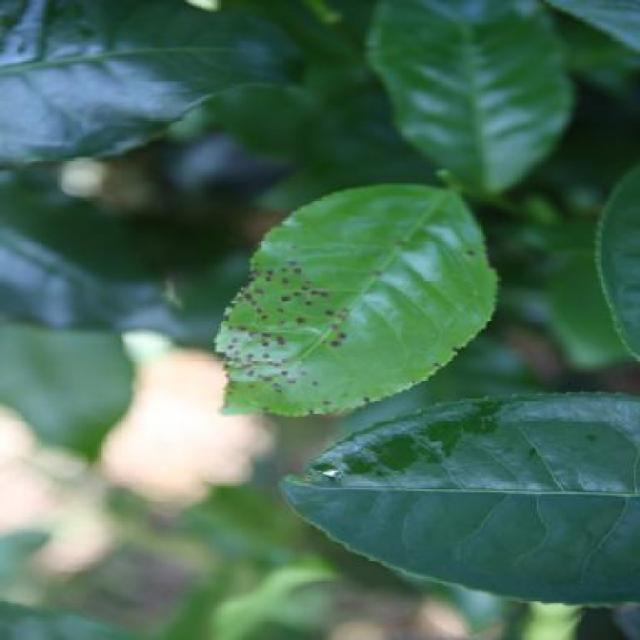Tea Mosquito bug infested leaf: (201, 191, 477, 429)
